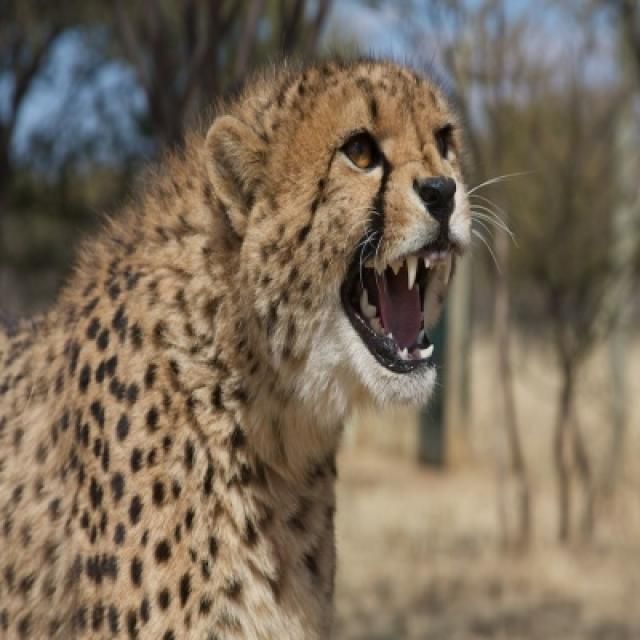Cheetah: (0, 61, 470, 638)
